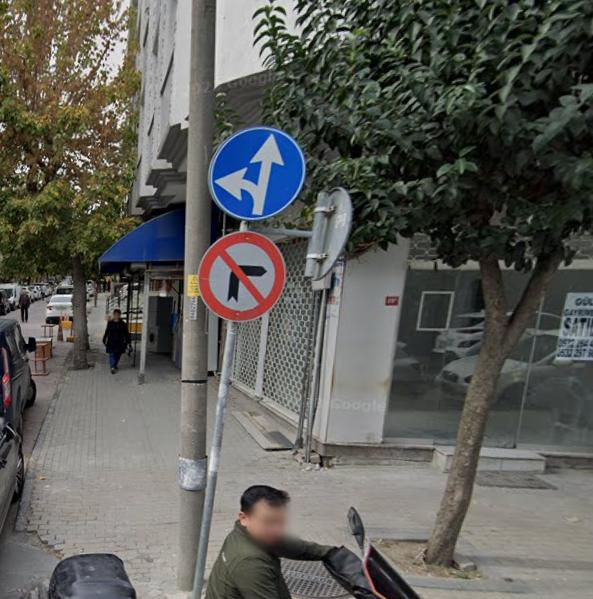rightturnsareforbidden: (199, 234, 289, 319)
